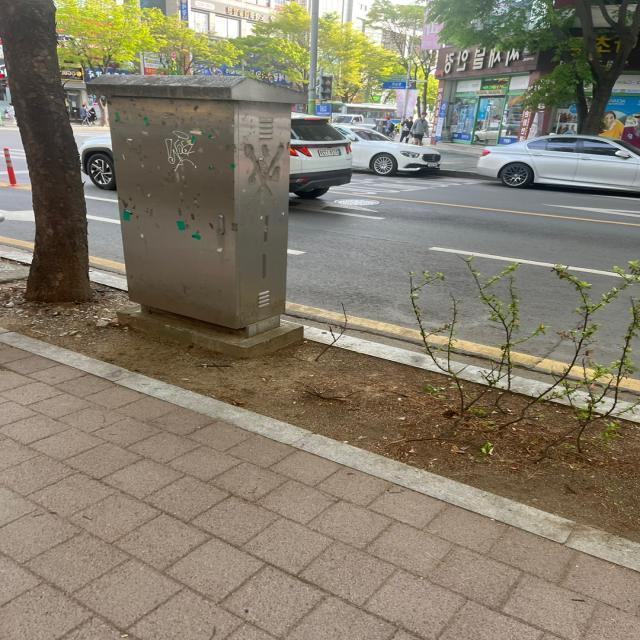Sewer Cover: (329, 194, 386, 212)
